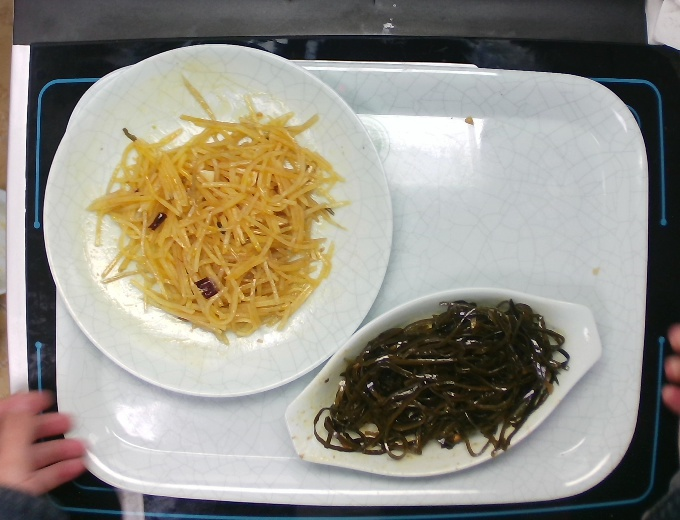JYsf-Da_Yuan_Pan: (46, 42, 393, 401)
JYsf-Yu_Pan: (283, 280, 603, 474)
